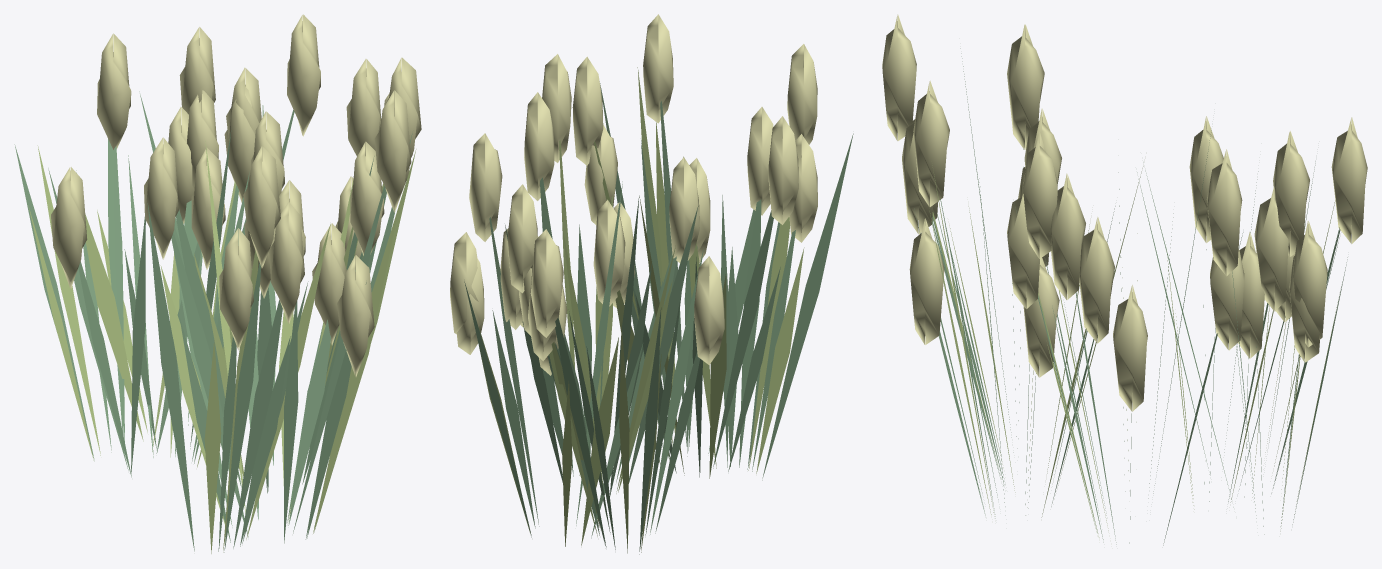
Rendered from river_reeds.glb.
The picture shows the model from 3 angles, left to right: view 1: azimuth 30°, elevation 25°; view 2: azimuth 150°, elevation 25°; view 3: azimuth 270°, elevation 25°; orthographic projection. The views are drawn at different scales.
Visible parts, largest first — view 1: river_reeds; view 2: river_reeds; view 3: river_reeds.
Part boxes in pixels (bbox=[...]): river_reeds: bbox=[14, 14, 421, 553]; river_reeds: bbox=[450, 14, 853, 554]; river_reeds: bbox=[882, 14, 1367, 545].
Bounding box in the file's own units: 1.26 × 1.72 × 1.6.
